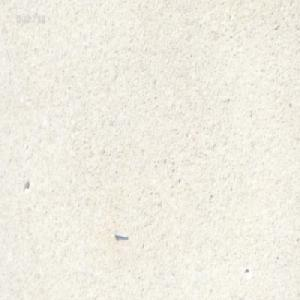Nail: (113, 229, 128, 239)
